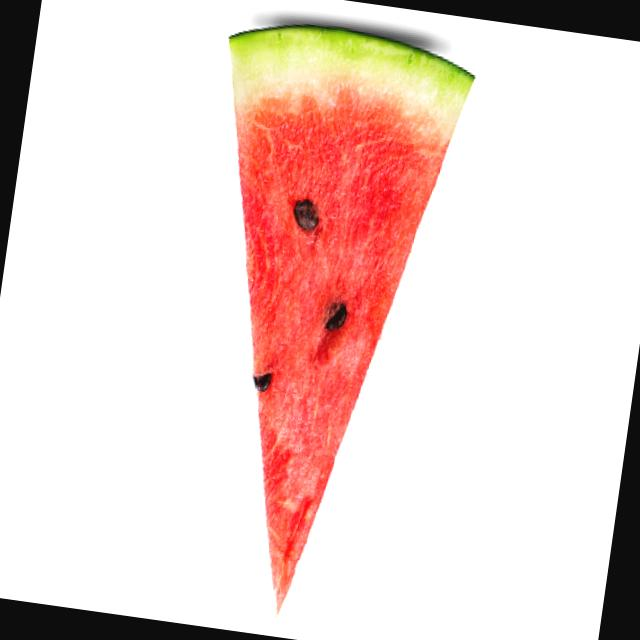dua hau: (230, 29, 474, 614)
